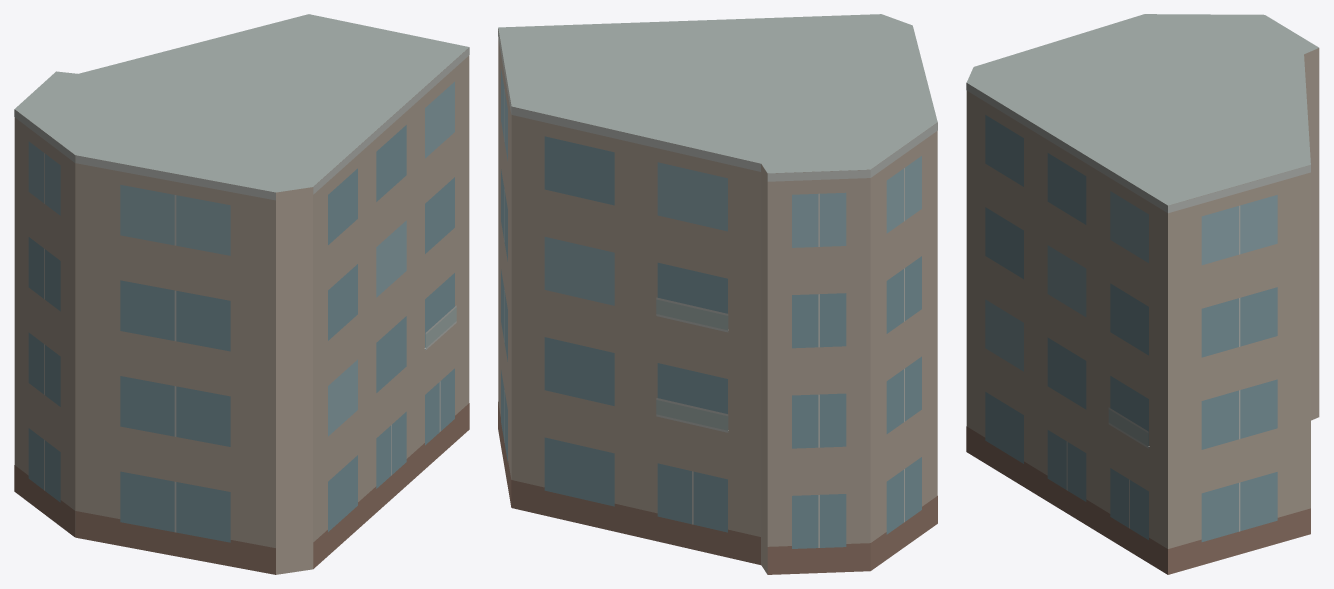
The model's file is survey-upis-32941263.glb.
3 renders of one model, left to right at view 1: azimuth 30°, elevation 25°; view 2: azimuth 150°, elevation 25°; view 3: azimuth 270°, elevation 25°, orthographic. The views are drawn at different scales.
Parts seen in each view (by area): view 1: survey-upis-32941263.tmp; view 2: survey-upis-32941263.tmp; view 3: survey-upis-32941263.tmp.
Boxes of the visible parts, box(x1,y1,x2,y2) form: survey-upis-32941263.tmp: box(14, 14, 469, 574); survey-upis-32941263.tmp: box(498, 14, 937, 574); survey-upis-32941263.tmp: box(966, 14, 1319, 574).
Size of the model in its own units: 13.02 by 11.7 by 10.14.
